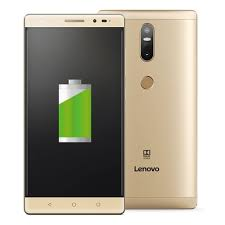lenovo: (20, 12, 129, 216), (122, 5, 197, 210)
